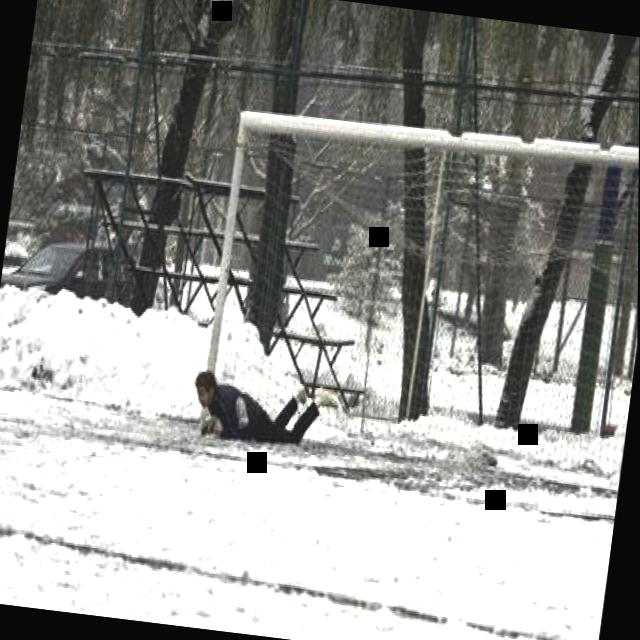Fall-Detected: (174, 347, 331, 457)
